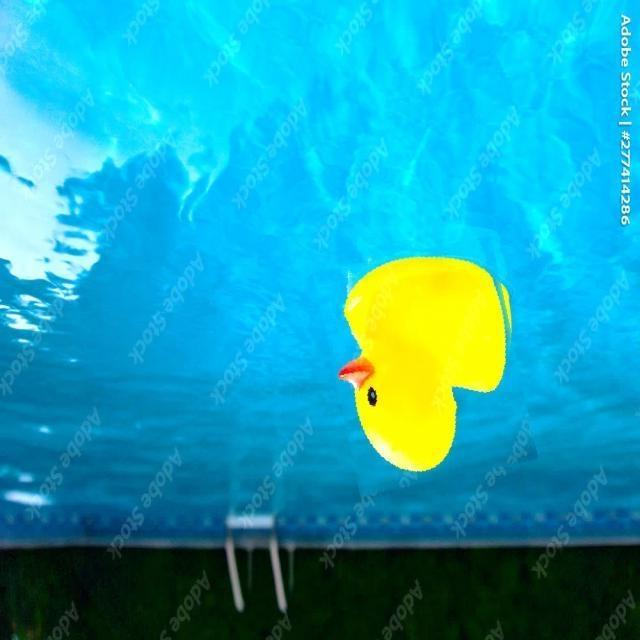rubber-duck: (338, 256, 508, 469)
